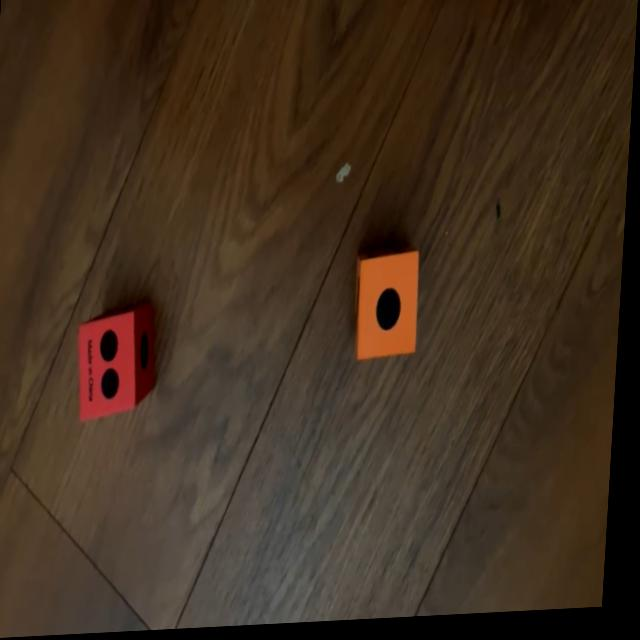cube: (77, 303, 164, 423)
